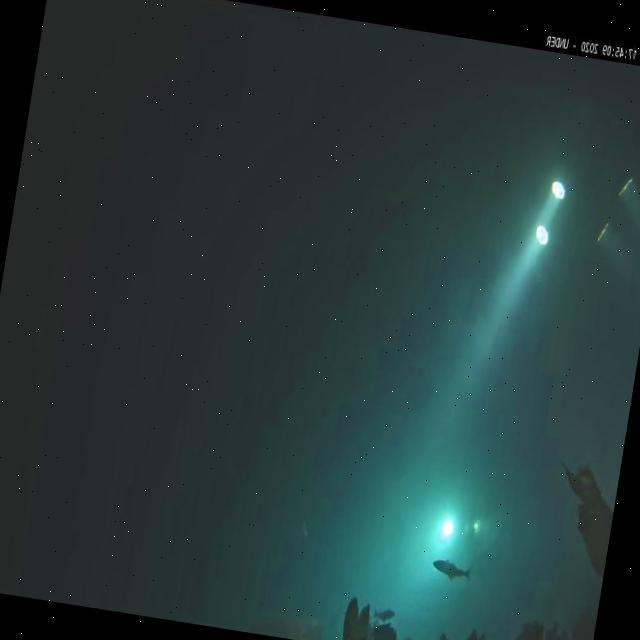fish: (432, 558, 474, 584)
